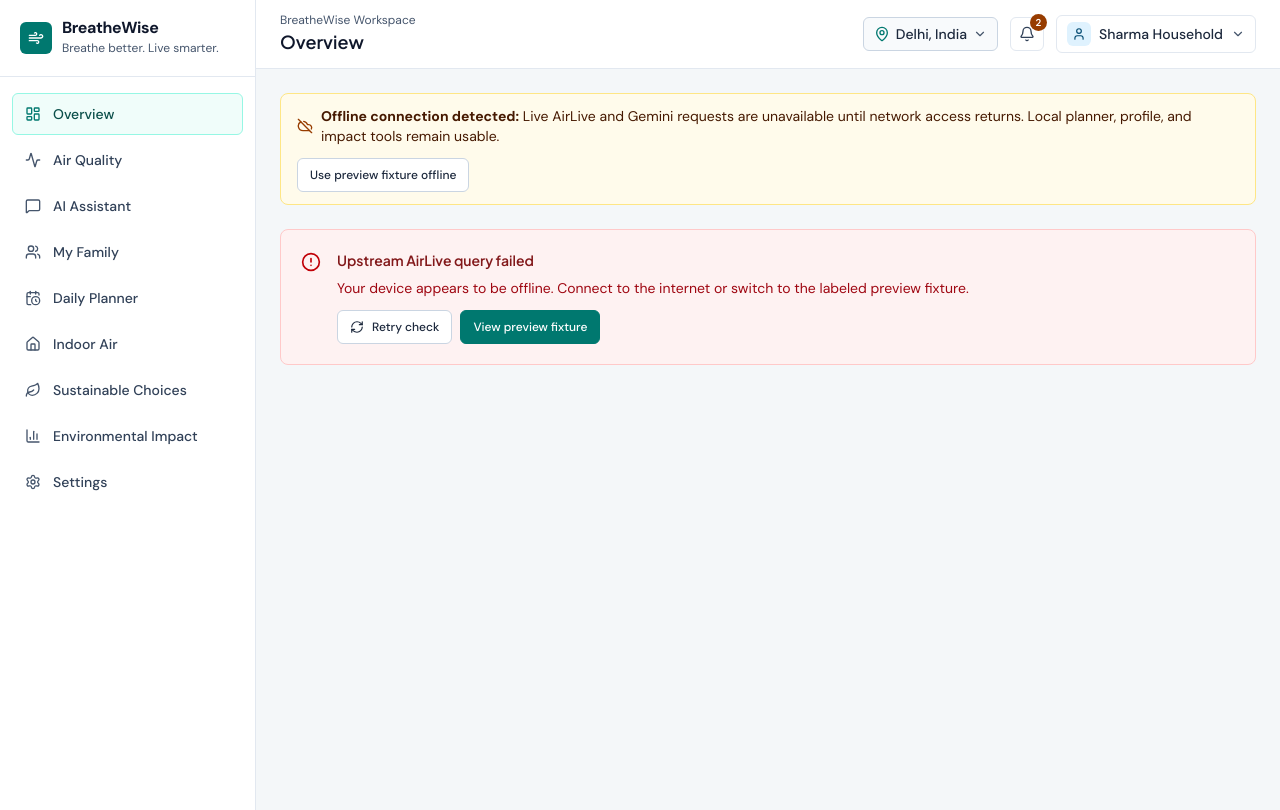
Test: UI Components, Accessibility Focus Traps, Client API Fallback, & Page Flows › renders OverviewPage offline/backend-unavailable notices and edits transport_shift entries in ImpactModals
The width and height of the screenshot is (1280, 810).
expect the text "Offline connection detected:" is shown: met, box [321,107,519,125]
expect the heading "Upstream AirLive query failed" is shown: met, box [337,251,534,269]
Click the button "Use preview fixture offline": x=383, y=175 [297,158,469,192]
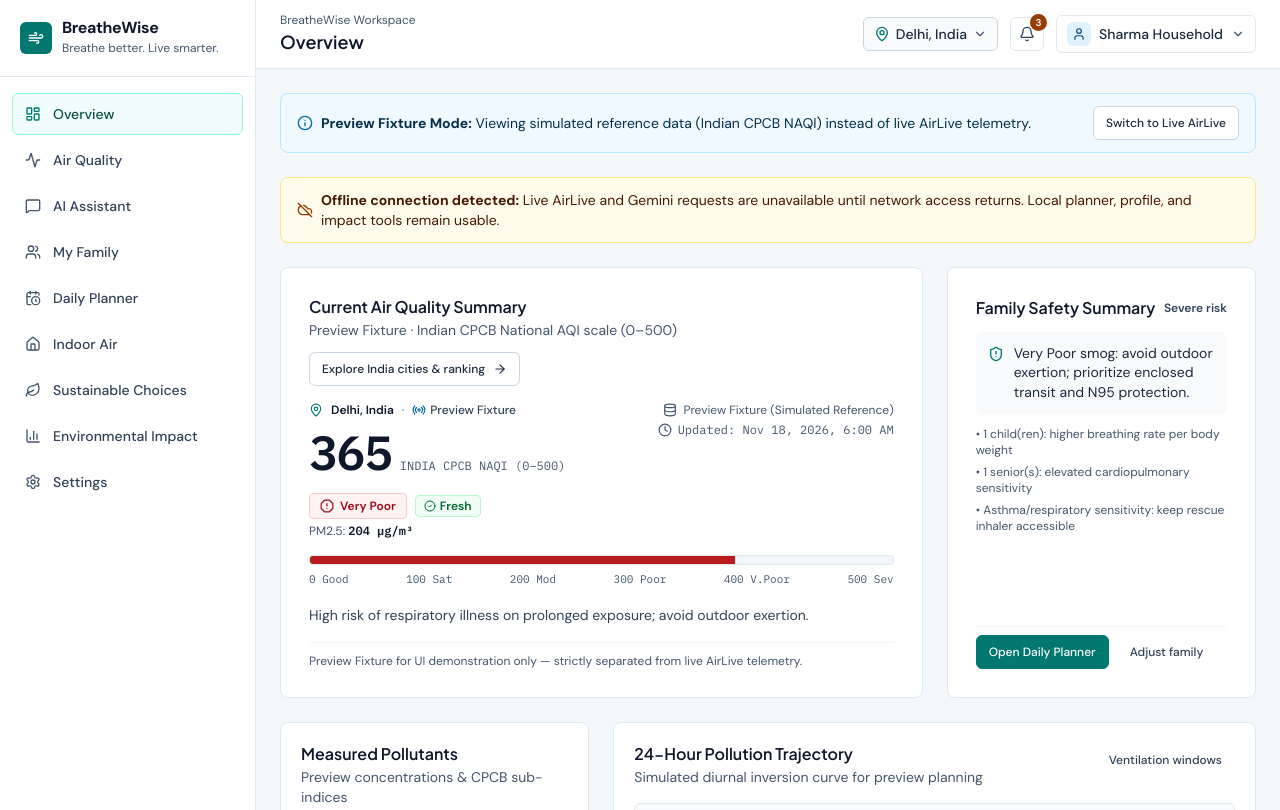
expect the text "Preview Fixture Mode:" is shown: met, box [321,114,472,132]
# Edit a transport_shift impact log entry so baseline/chosen/distance fields execute
Click the button "Environmental Impact": x=128, y=436 [12,415,243,457]
(page scrolled)
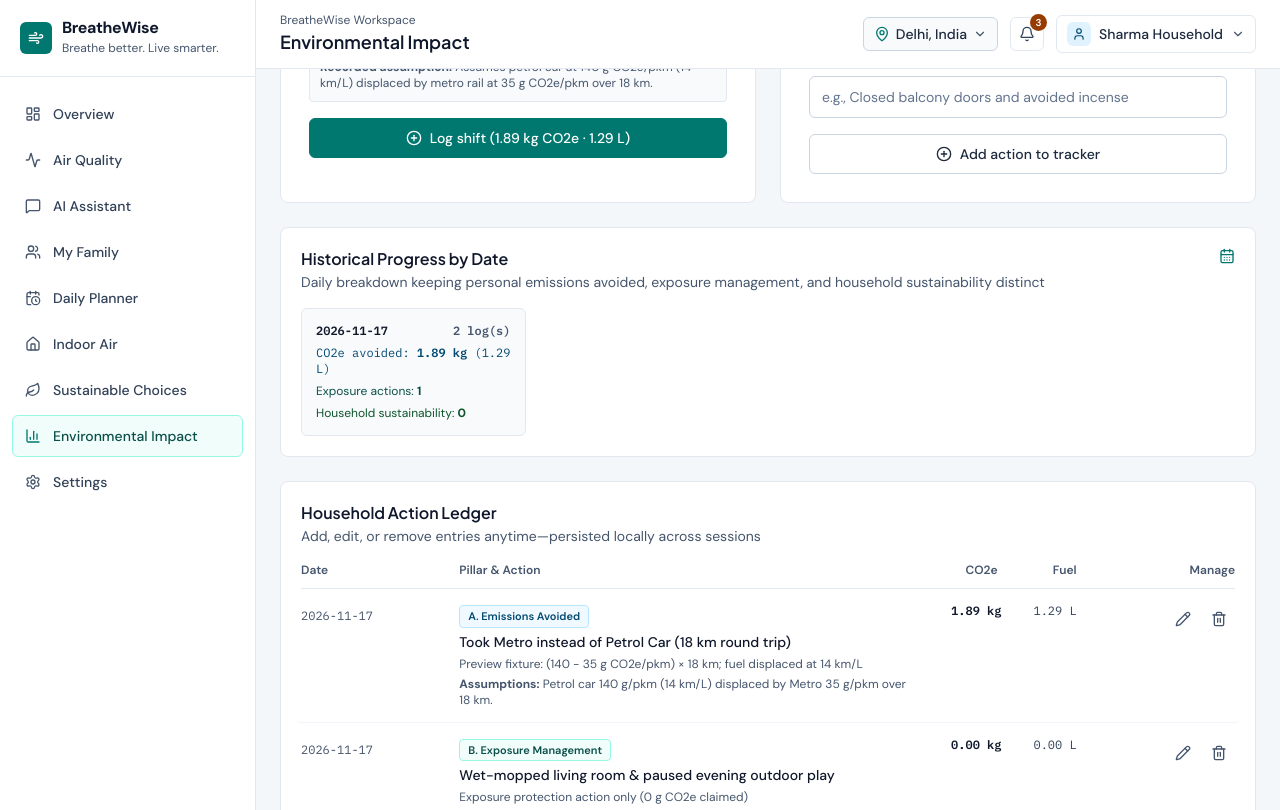
Click the button named "Edit logged action Took Metro instead of Petrol Car": x=1183, y=619 [1167,603,1199,635]
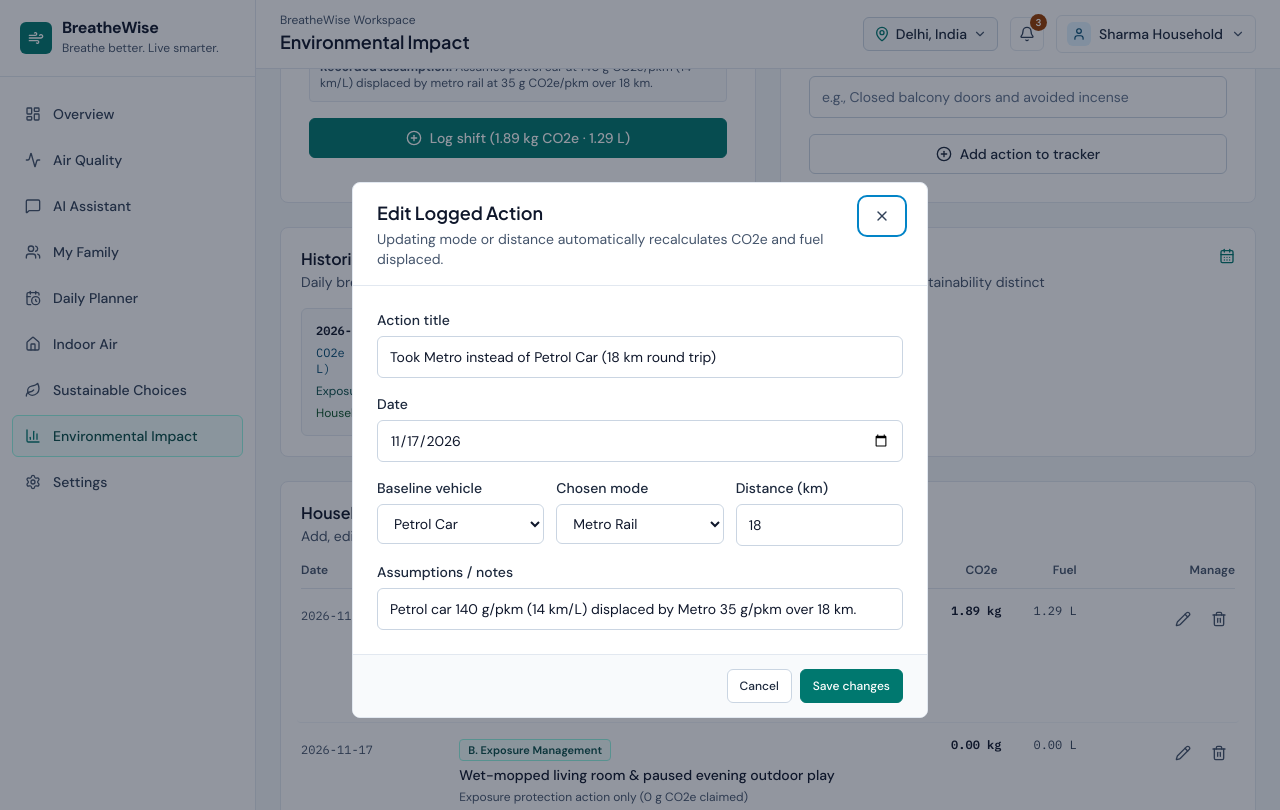
Select "Diesel Car" in the dropdown labelled "Baseline vehicle": x=461, y=524 [377,504,544,544]
Select "Walk / Cycle" in the dropdown labelled "Chosen mode": x=640, y=524 [556,504,724,544]
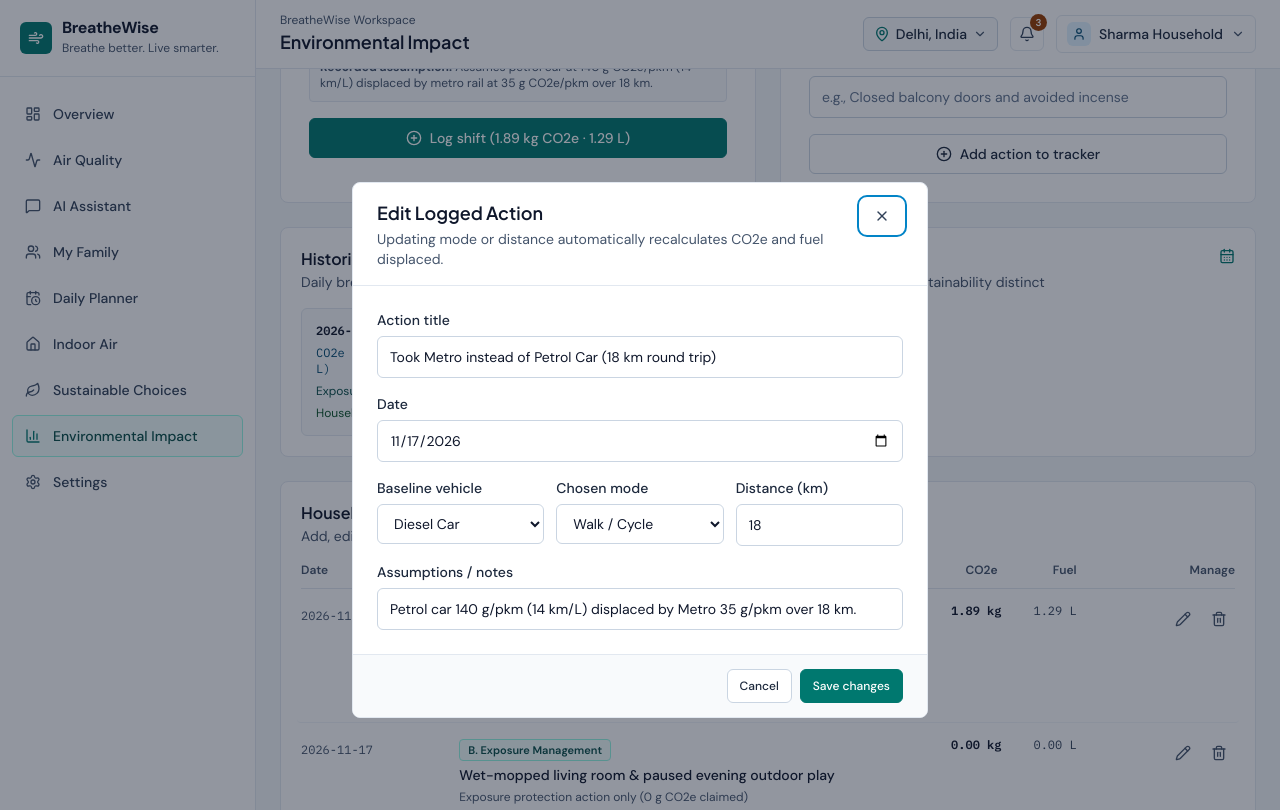
Replace the text in the number field labelled "Distance (km)" with "10": x=819, y=525 [736,504,903,546]
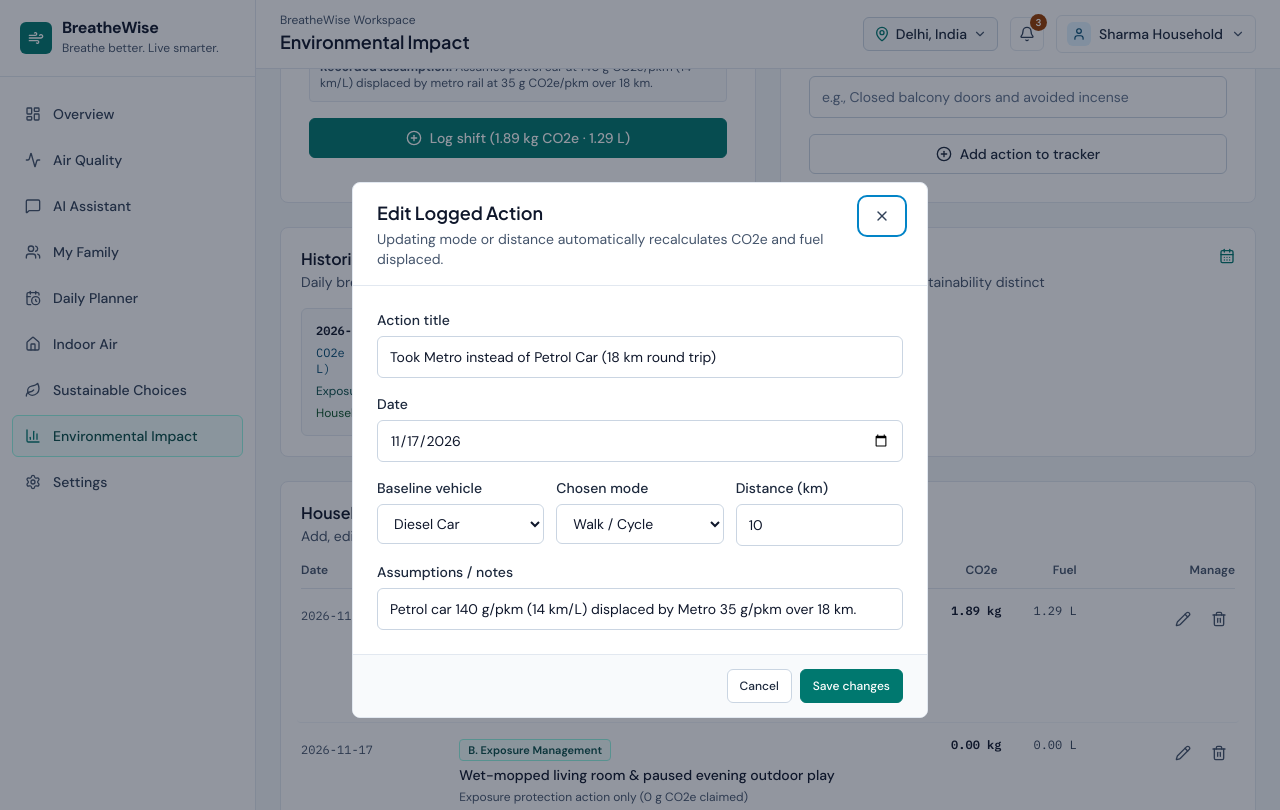
Click the button "Save changes": x=851, y=686 [800,669,903,703]
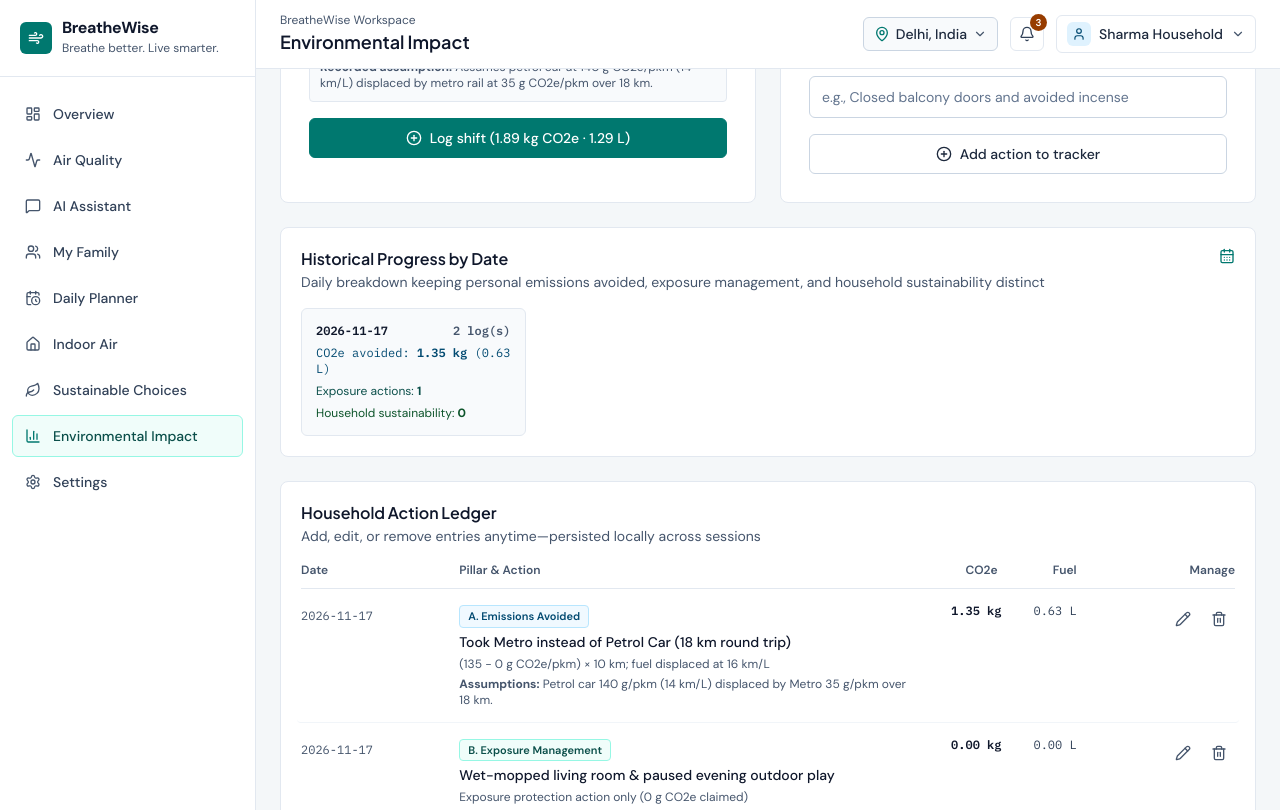
expect the heading "Edit Logged Action" is gone: met
